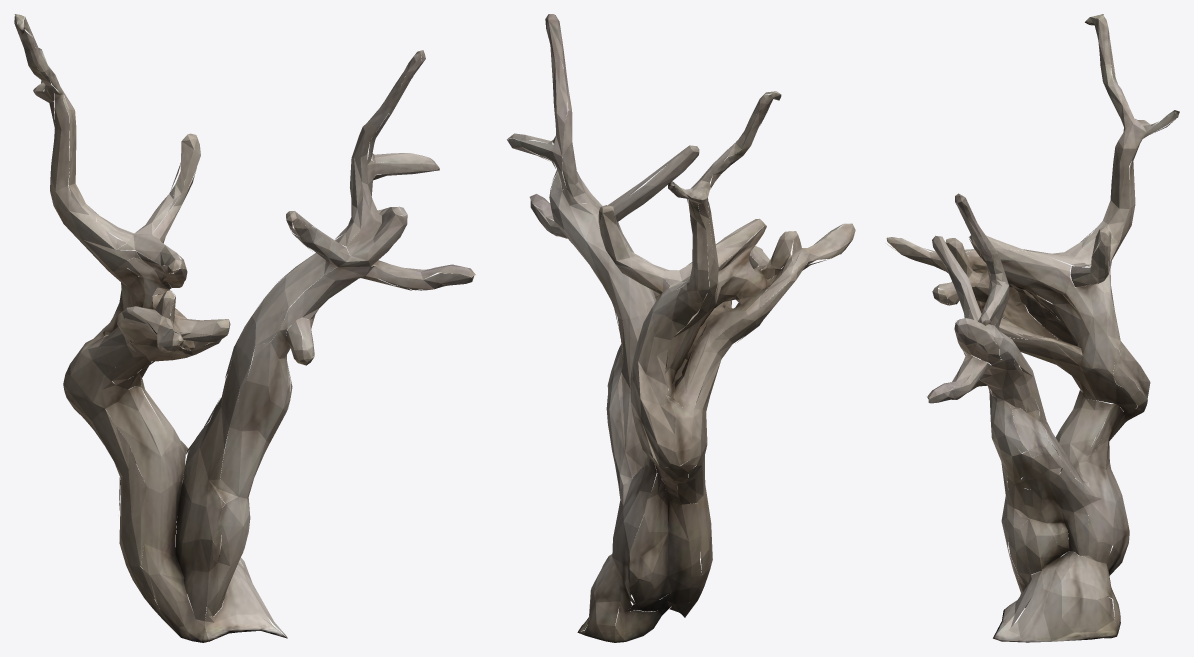
Rendered from x-tronc-blanc.glb.
The picture shows the model from 3 angles, left to right: view 1: azimuth 30°, elevation 25°; view 2: azimuth 150°, elevation 25°; view 3: azimuth 270°, elevation 25°; orthographic projection. The views are drawn at different scales.
Parts seen in each view (by area): view 1: geometry_0; view 2: geometry_0; view 3: geometry_0.
Boxes of the visible parts, left/top/right/bottom form: geometry_0: left=14, top=14, right=475, bottom=642; geometry_0: left=507, top=14, right=855, bottom=642; geometry_0: left=886, top=14, right=1179, bottom=642.
Size of the model in its own units: 0.607 by 1 by 0.4978.
1 material, 1 textured.
